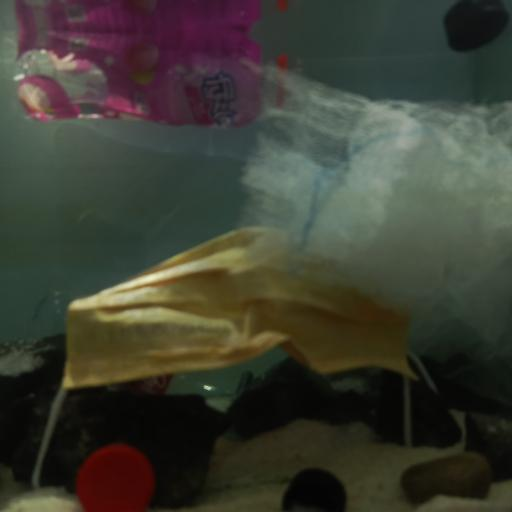bottle_cap: (78, 442, 156, 510), (442, 0, 512, 53), (282, 468, 346, 512)
mask: (64, 221, 424, 402)
net: (232, 58, 512, 336)
plastic_bottle: (25, 288, 264, 402), (15, 38, 300, 130)
